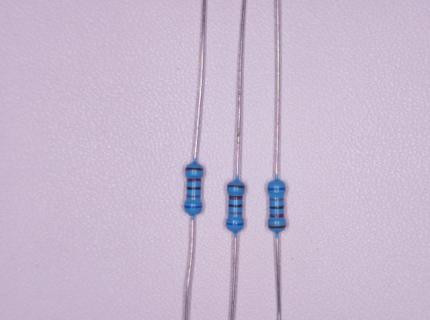Black band: (270, 205, 283, 209), (187, 187, 201, 190), (229, 204, 242, 207)
Blue band: (185, 205, 201, 208), (227, 223, 244, 225), (269, 188, 285, 190)
Brown band: (227, 185, 244, 188), (186, 168, 202, 171), (269, 225, 285, 228)
Grey band: (270, 199, 284, 201), (187, 195, 200, 197), (229, 212, 242, 214)
Red band: (270, 213, 283, 218), (229, 196, 243, 200), (188, 179, 201, 182)
